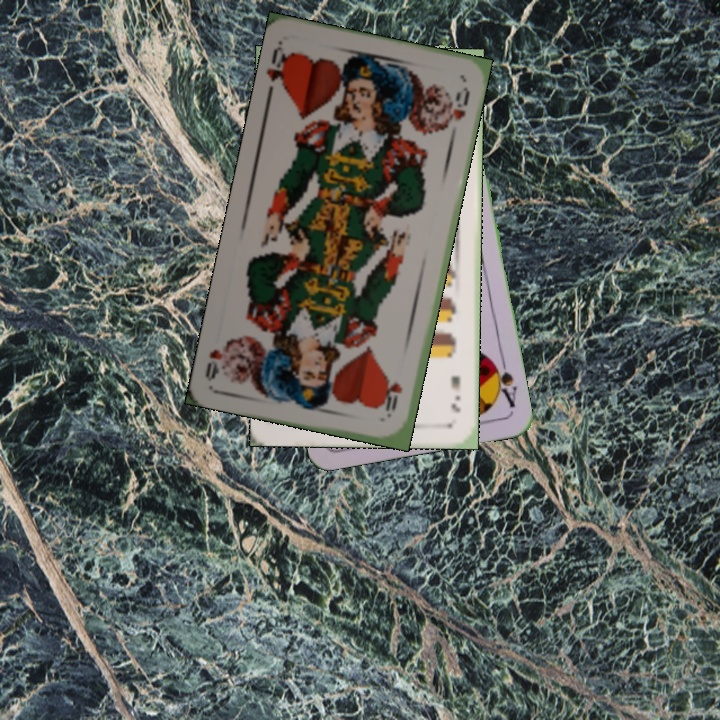E7: (447, 372, 464, 415)
HO: (263, 39, 295, 92), (381, 378, 405, 420)
SA: (487, 353, 520, 411)
